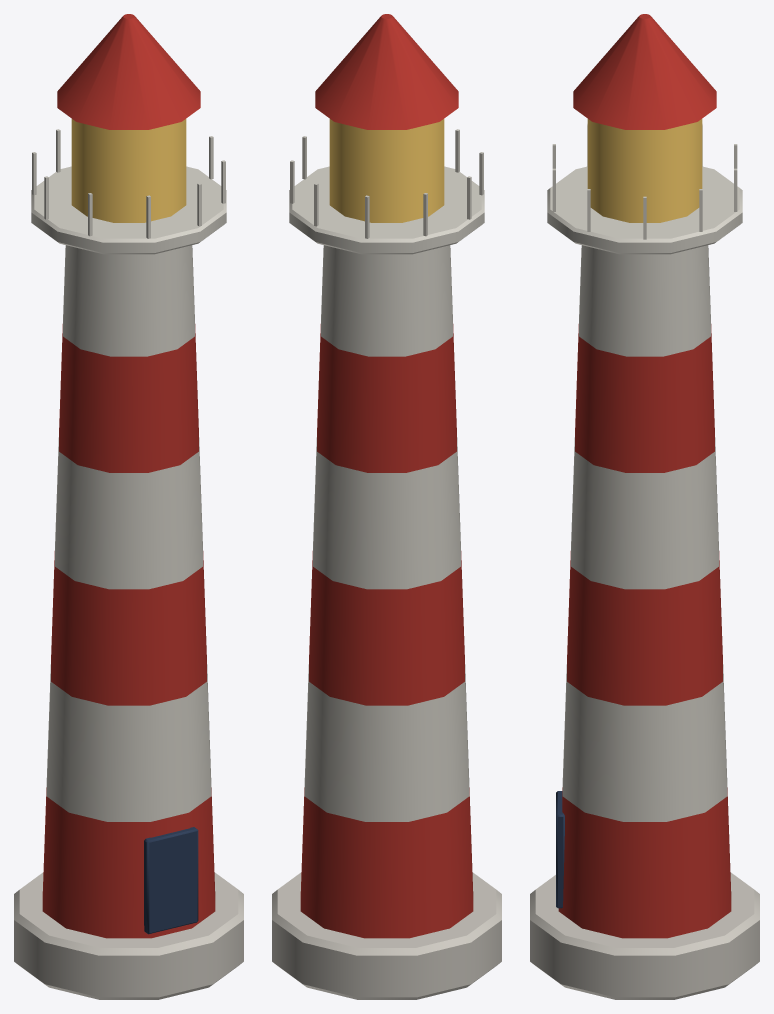
File: 149_phare_jetee.fbx
3 views of the same model, side by side, from view 1: azimuth 30°, elevation 25°; view 2: azimuth 150°, elevation 25°; view 3: azimuth 270°, elevation 25° (orthographic).
Visible parts, largest first — view 1: Tour, Lanterne; view 2: Tour, Lanterne; view 3: Tour, Lanterne.
Part boxes in pixels (x1=…): Tour: x1=14, y1=14, x2=243, y2=999; Lanterne: x1=71, y1=119, x2=186, y2=222; Tour: x1=272, y1=14, x2=501, y2=999; Lanterne: x1=329, y1=119, x2=444, y2=222; Tour: x1=530, y1=14, x2=759, y2=999; Lanterne: x1=587, y1=119, x2=702, y2=222.
Bounding box in the file's own units: 1.12 × 5.04 × 1.12.
1 material, 1 textured.
